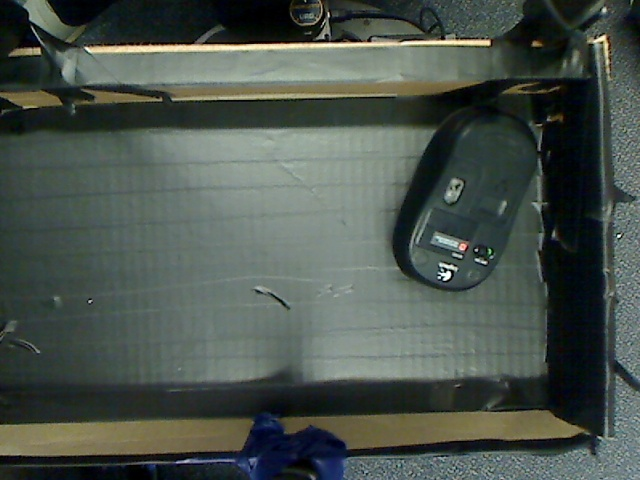mouse: (384, 119, 554, 299)
